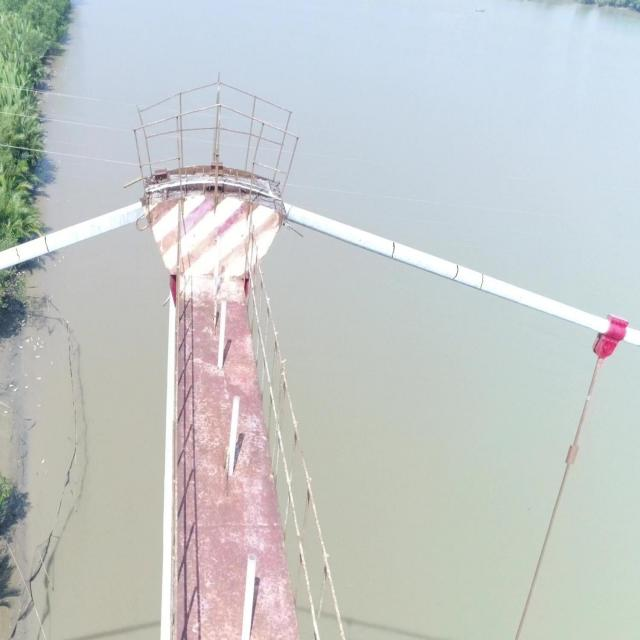crack: (452, 264, 459, 280), (44, 236, 49, 253), (15, 248, 21, 262), (391, 242, 396, 258), (479, 274, 484, 290)
